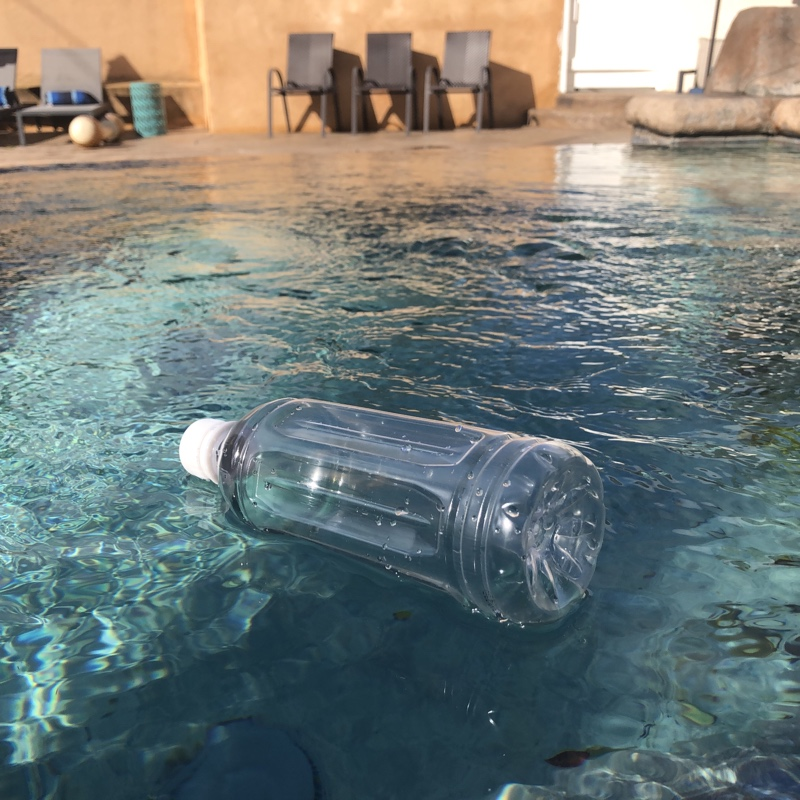Plastic Bottle: (175, 392, 612, 635)
